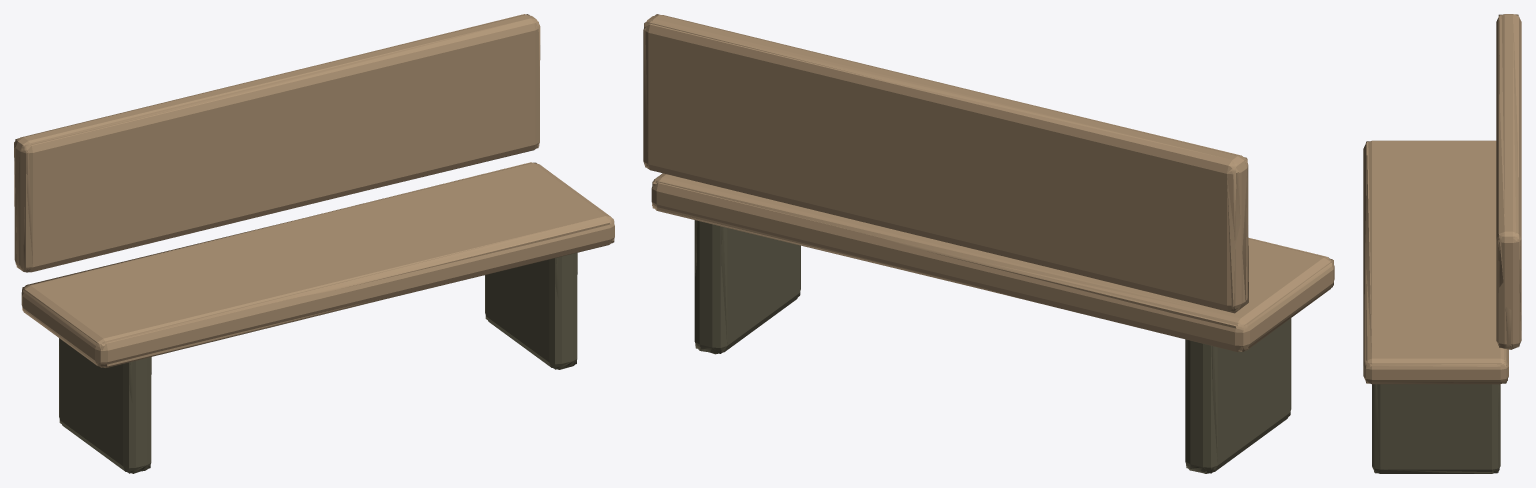
File: SM_Warmerdamm_Bench.fbx
The picture shows the model from 3 angles, left to right: view 1: azimuth 30°, elevation 25°; view 2: azimuth 150°, elevation 25°; view 3: azimuth 270°, elevation 25°; orthographic projection. The views are drawn at different scales.
Parts seen in each view (by area): view 1: LOD0_SM_Warmerdamm_Bench, LOD1_SM_Warmerdamm_Bench, LOD2_SM_Warmerdamm_Bench; view 2: LOD0_SM_Warmerdamm_Bench, LOD1_SM_Warmerdamm_Bench, LOD2_SM_Warmerdamm_Bench; view 3: LOD0_SM_Warmerdamm_Bench, LOD1_SM_Warmerdamm_Bench, LOD2_SM_Warmerdamm_Bench.
Boxes of the visible parts, x1,y1,x2,y2 form: LOD0_SM_Warmerdamm_Bench: (14,15,614,472); LOD1_SM_Warmerdamm_Bench: (14,14,614,472); LOD2_SM_Warmerdamm_Bench: (14,14,614,473); LOD0_SM_Warmerdamm_Bench: (643,15,1334,471); LOD1_SM_Warmerdamm_Bench: (643,14,1333,473); LOD2_SM_Warmerdamm_Bench: (644,14,1333,473); LOD0_SM_Warmerdamm_Bench: (1363,14,1521,473); LOD1_SM_Warmerdamm_Bench: (1364,14,1521,473); LOD2_SM_Warmerdamm_Bench: (1365,14,1519,472).
Size of the model in its own units: 1.91 by 1.01 by 0.565.
